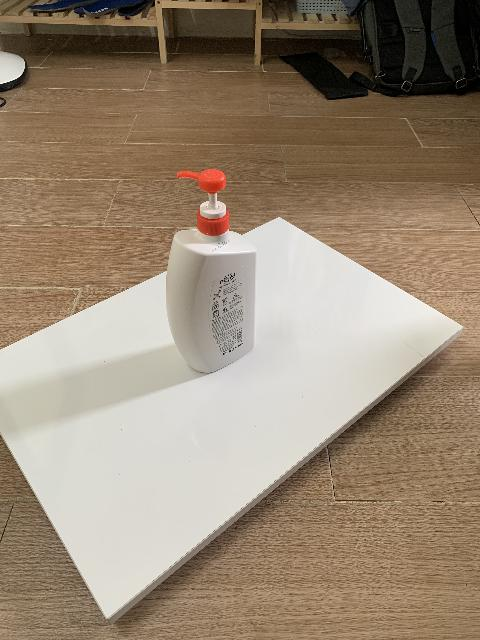life-buoy: (166, 229, 258, 377)
